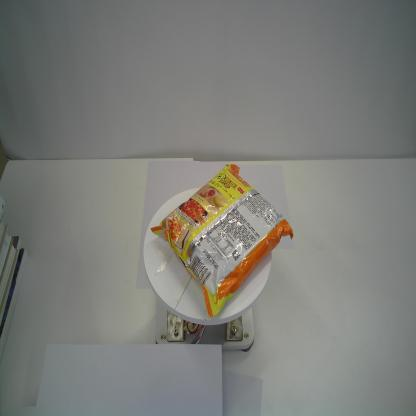Instant Noodles: (150, 163, 294, 322)
